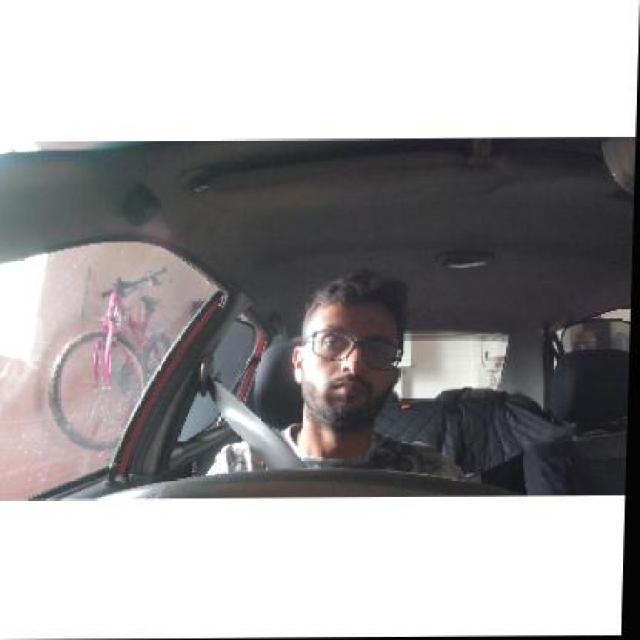person: (284, 269, 417, 432)
